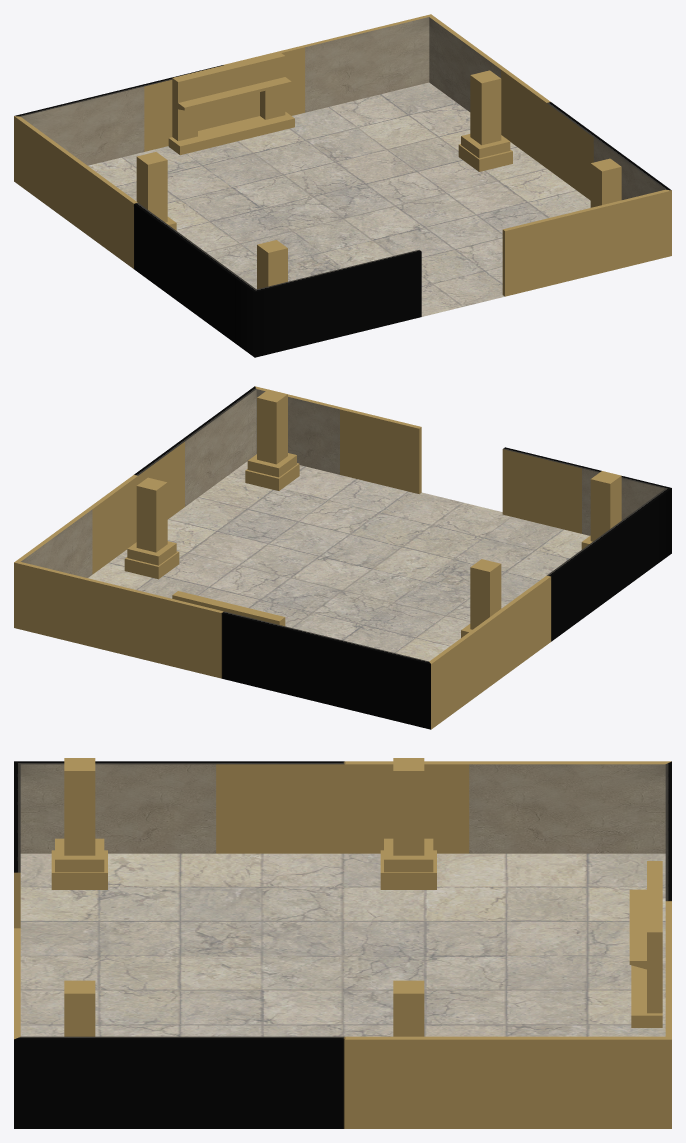
The model's file is Room_0Exit01_Type02.fbx.
The picture shows the model from 3 angles, top to bottom: view 1: azimuth 30°, elevation 25°; view 2: azimuth 150°, elevation 25°; view 3: azimuth 270°, elevation 25°; orthographic projection. The views are drawn at different scales.
Parts seen in each view (by area): view 1: Room1x1_1Exit03, Fireplace1, Column21, Column22, Column20, Column19; view 2: Room1x1_1Exit03, Column21, Column20, Column19, Column22, Fireplace1; view 3: Room1x1_1Exit03, Column19, Column22, Fireplace1, Column20, Column21.
Boxes of the visible parts, left/top/right/bottom form: Room1x1_1Exit03: left=14, top=14, right=671, bottom=357; Fireplace1: left=168, top=52, right=294, bottom=155; Column21: left=458, top=70, right=512, bottom=171; Column22: left=136, top=152, right=176, bottom=230; Column20: left=590, top=158, right=621, bottom=207; Column19: left=257, top=240, right=287, bottom=289; Room1x1_1Exit03: left=14, top=386, right=671, bottom=729; Column21: left=124, top=477, right=179, bottom=579; Column20: left=245, top=389, right=299, bottom=490; Column19: left=581, top=471, right=621, bottom=549; Column22: left=461, top=559, right=501, bottom=637; Fireplace1: left=172, top=591, right=285, bottom=626; Room1x1_1Exit03: left=14, top=761, right=671, bottom=1128; Column19: left=51, top=758, right=107, bottom=889; Column22: left=380, top=758, right=436, bottom=889; Fireplace1: left=629, top=861, right=662, bottom=1027; Column20: left=64, top=980, right=95, bottom=1036; Column21: left=393, top=980, right=424, bottom=1036.
Bounding box in the file's own units: 10 × 1.91 × 10.
Materials: 1 (1 with a texture image).
